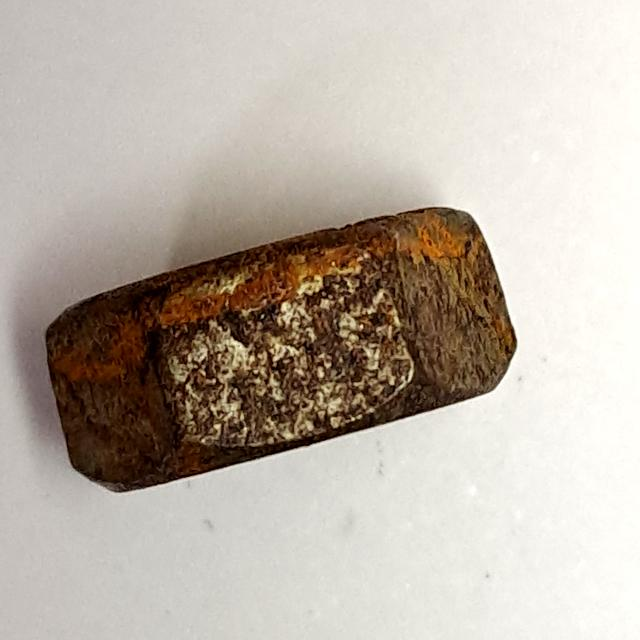Side_Rust: (25, 190, 545, 506)
